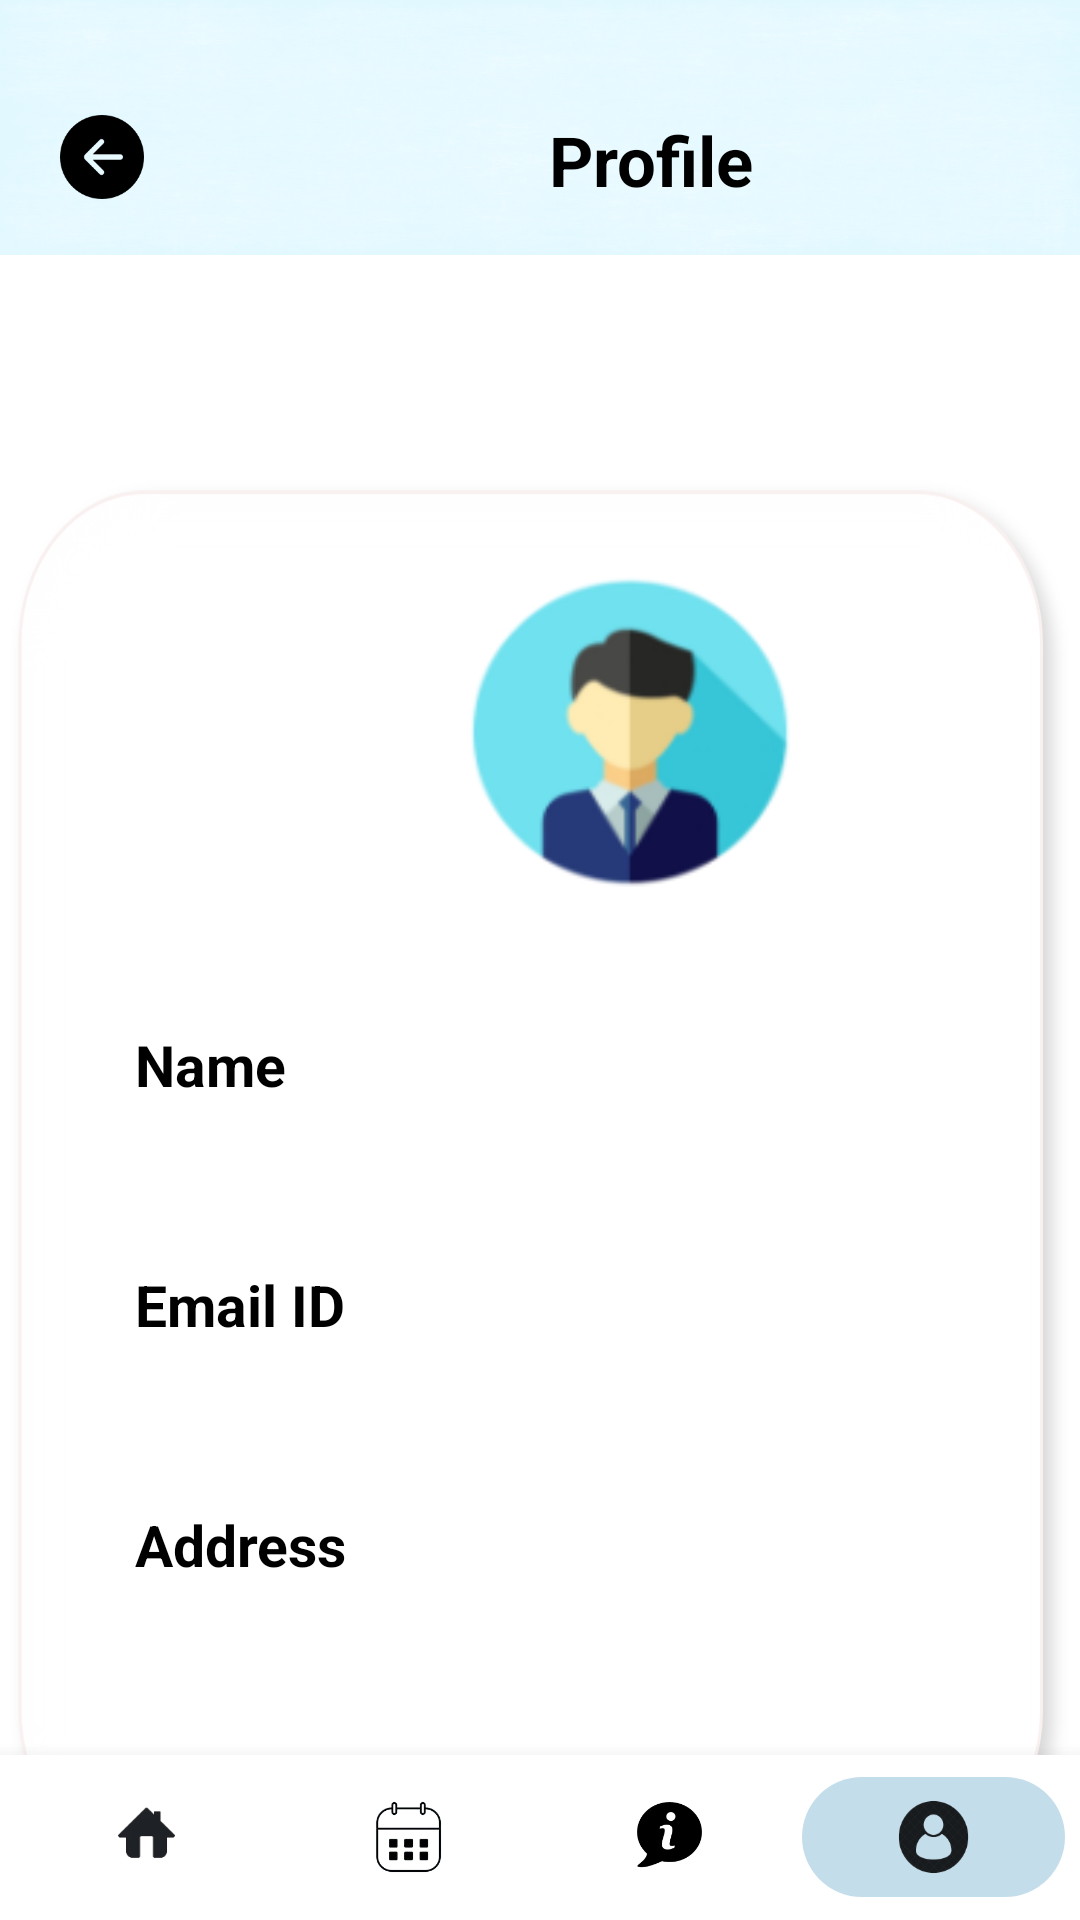

Screen size 1080 × 1920. Icon name, then its center in pixels as point (x, y):
aboutus: point (669, 1835)
profile: point (934, 1837)
profilephoto: point (630, 732)
